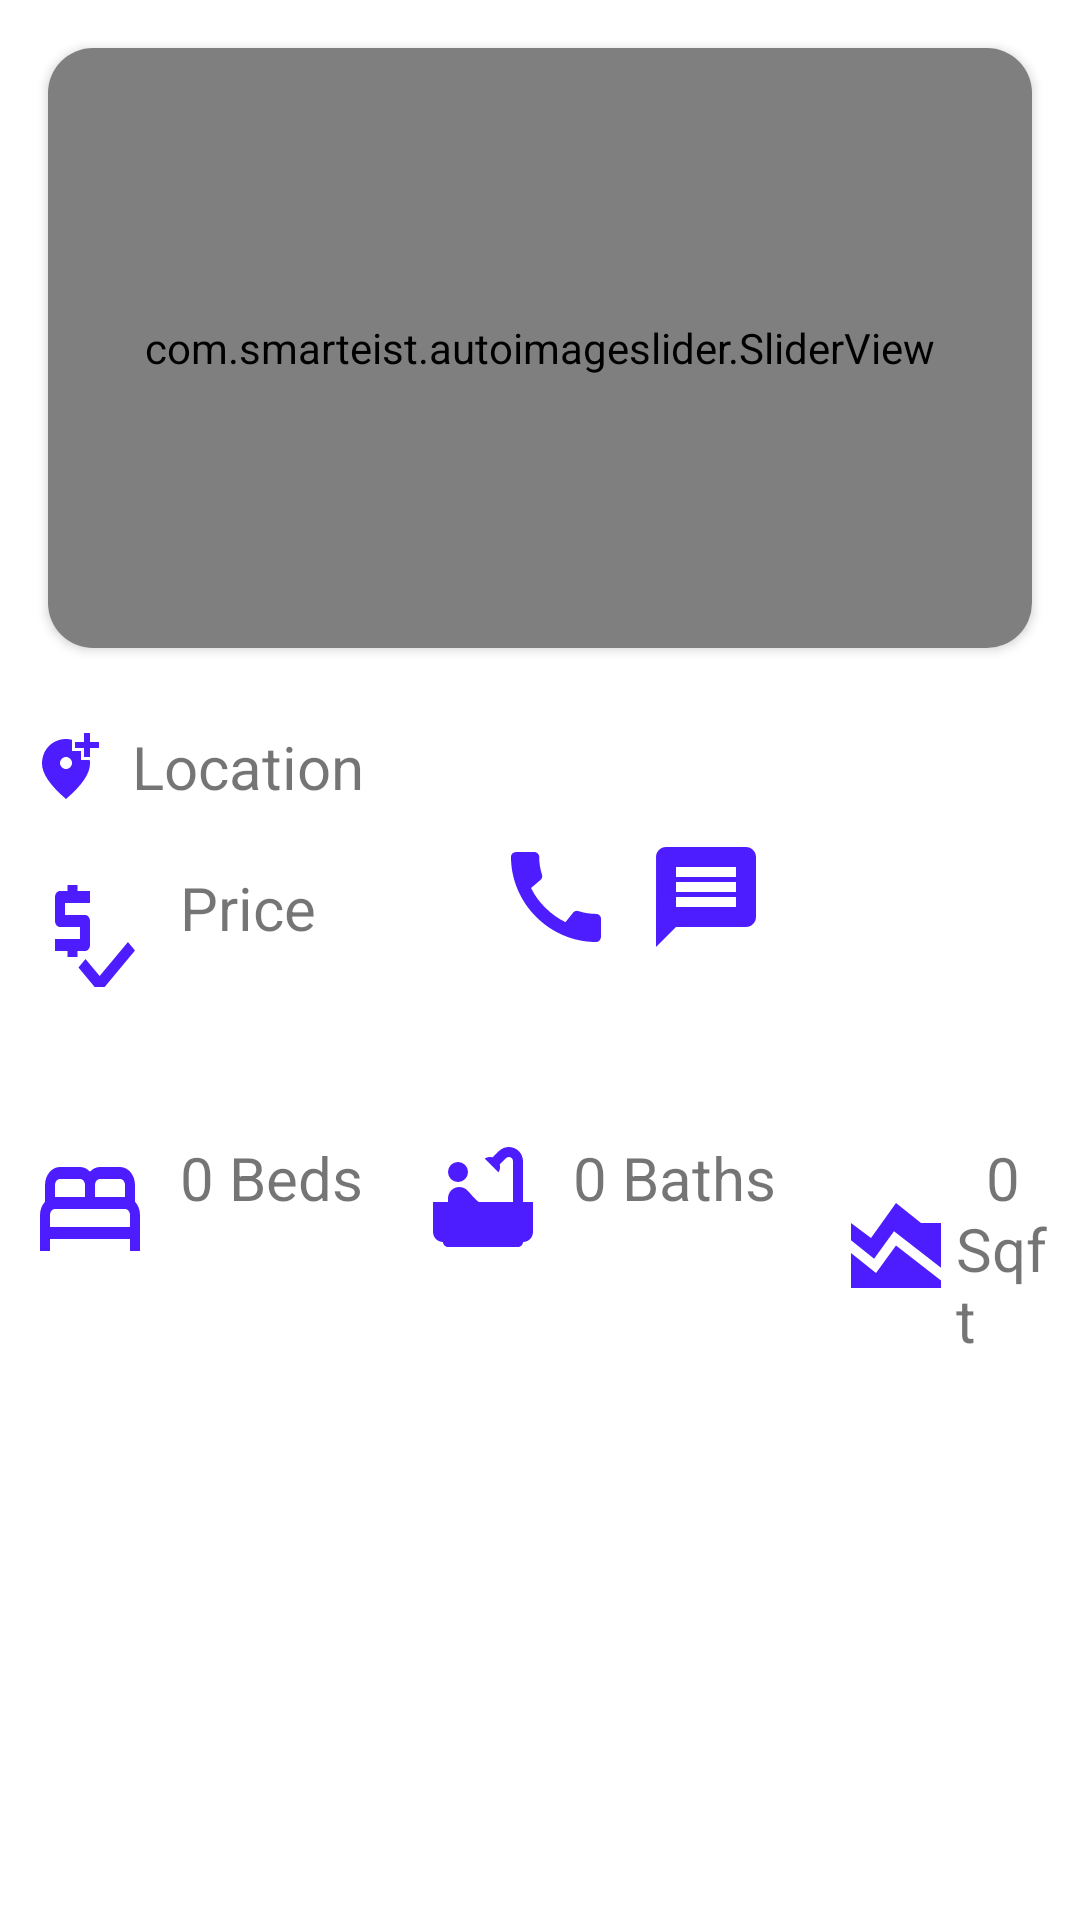

Icons on this 1080px×1920px Android screen, each with the point to tap as (x,y):
call: (556,897)
message: (706,897)
